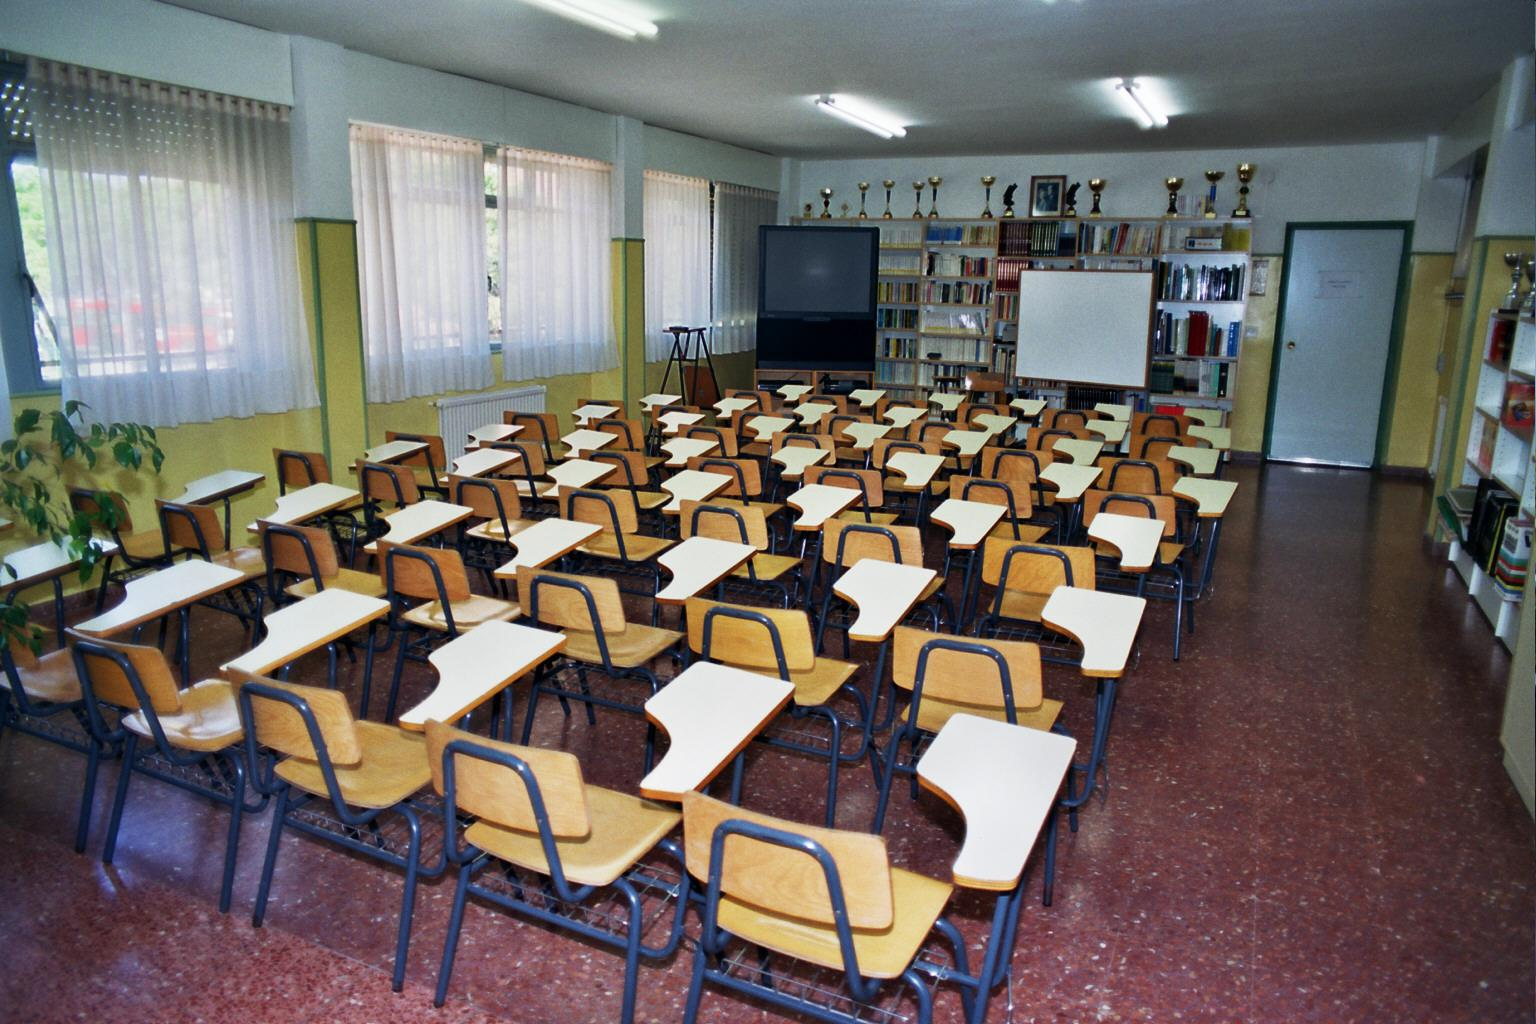Puerta: (1285, 219, 1385, 466)
Ventana: (5, 69, 271, 374), (350, 117, 602, 351)
